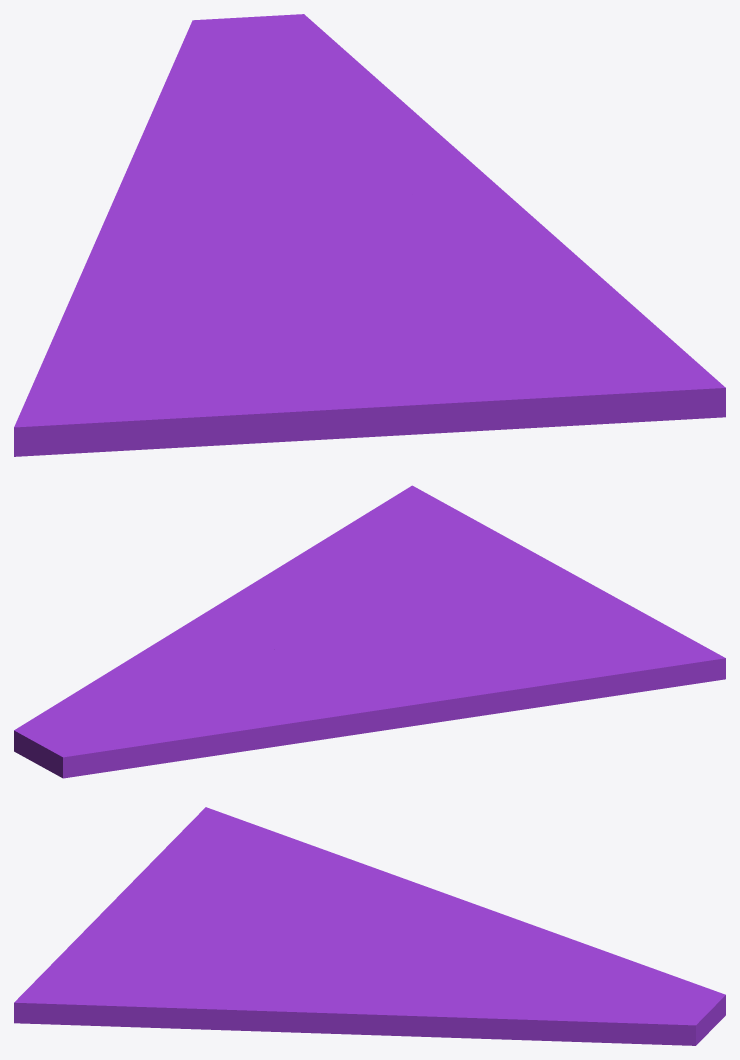
The model's file is StairsStep_33_chunks.fbx.
3 views of the same model, one above another, from view 1: azimuth 30°, elevation 25°; view 2: azimuth 150°, elevation 25°; view 3: azimuth 270°, elevation 25° (orthographic). The views are drawn at different scales.
Visible parts, largest first — view 1: StairsStep_33_2, StairsStep_33_0, StairsStep_33_1, StairsStep_33_3; view 2: StairsStep_33_2, StairsStep_33_0, StairsStep_33_1, StairsStep_33_3; view 3: StairsStep_33_2, StairsStep_33_1, StairsStep_33_0, StairsStep_33_3.
Boxes of the visible parts, x1,y1,x2,y2 form: StairsStep_33_2: (241, 181, 725, 443); StairsStep_33_0: (14, 192, 294, 456); StairsStep_33_1: (135, 14, 491, 208); StairsStep_33_3: (117, 150, 324, 235); StairsStep_33_2: (192, 485, 625, 654); StairsStep_33_0: (289, 603, 725, 744); StairsStep_33_1: (14, 621, 292, 778); StairsStep_33_3: (275, 653, 343, 736); StairsStep_33_2: (14, 869, 410, 1035); StairsStep_33_1: (387, 934, 725, 1045); StairsStep_33_0: (145, 807, 505, 945); StairsStep_33_3: (382, 915, 558, 962).
Size of the model in its own units: 409 by 17.94 by 564.
